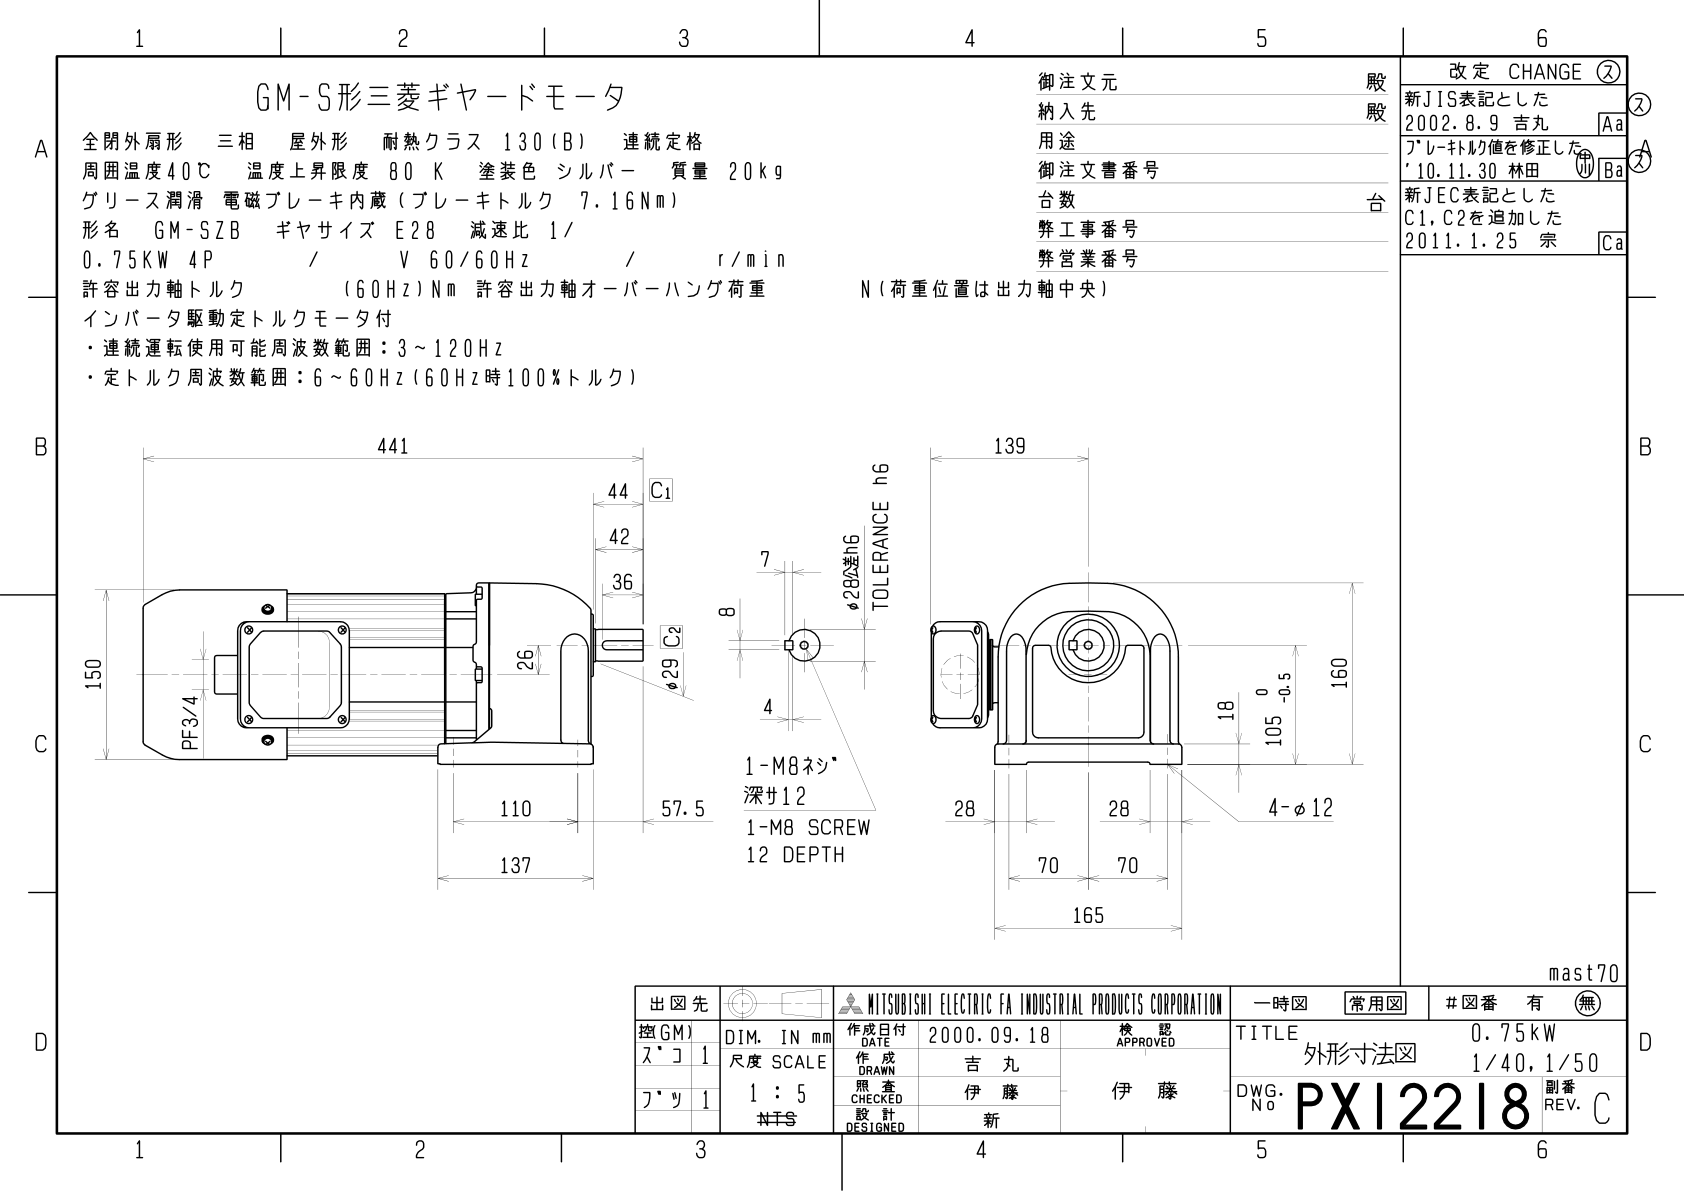GM_S_インバタ屋外＿三相_脚: (4, 6, 1684, 1191)
